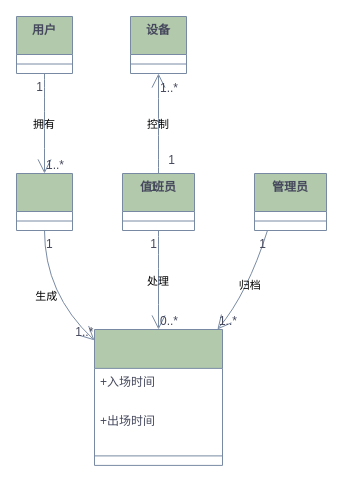
Image size: 343x482. Some labels were removed from this diagram. Here are the shapes that lost their labels. From the top down, the box of each, then its label:
(16, 172, 72, 230): 车辆
(94, 328, 222, 465): 停车记录
